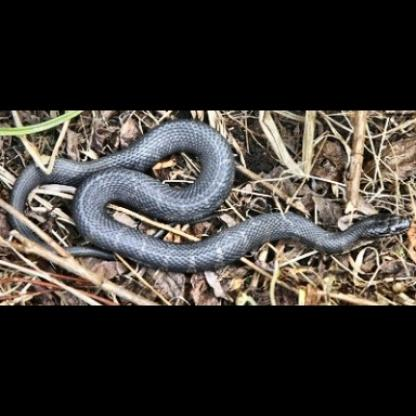Snake: (8, 110, 408, 284)
